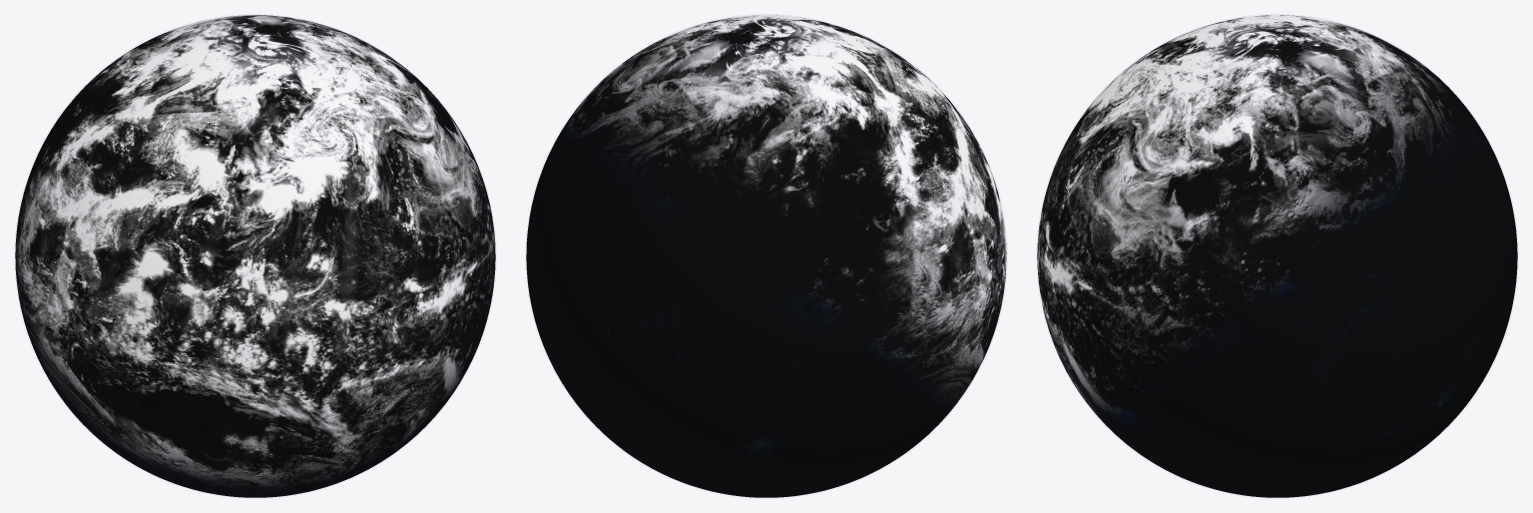
File: earth.glb
3 renders of one model, left to right at view 1: azimuth 30°, elevation 25°; view 2: azimuth 150°, elevation 25°; view 3: azimuth 270°, elevation 25°, orthographic.
Visible parts, largest first — view 1: Clouds; view 2: Clouds; view 3: Clouds.
Part boxes in pixels (x1,y1,x2,y2): Clouds: (15,15,495,497); Clouds: (526,15,1006,497); Clouds: (1037,15,1517,497).
Bounding box in the file's own units: 19.96 × 20.17 × 19.96.
3 materials, 2 textured.
